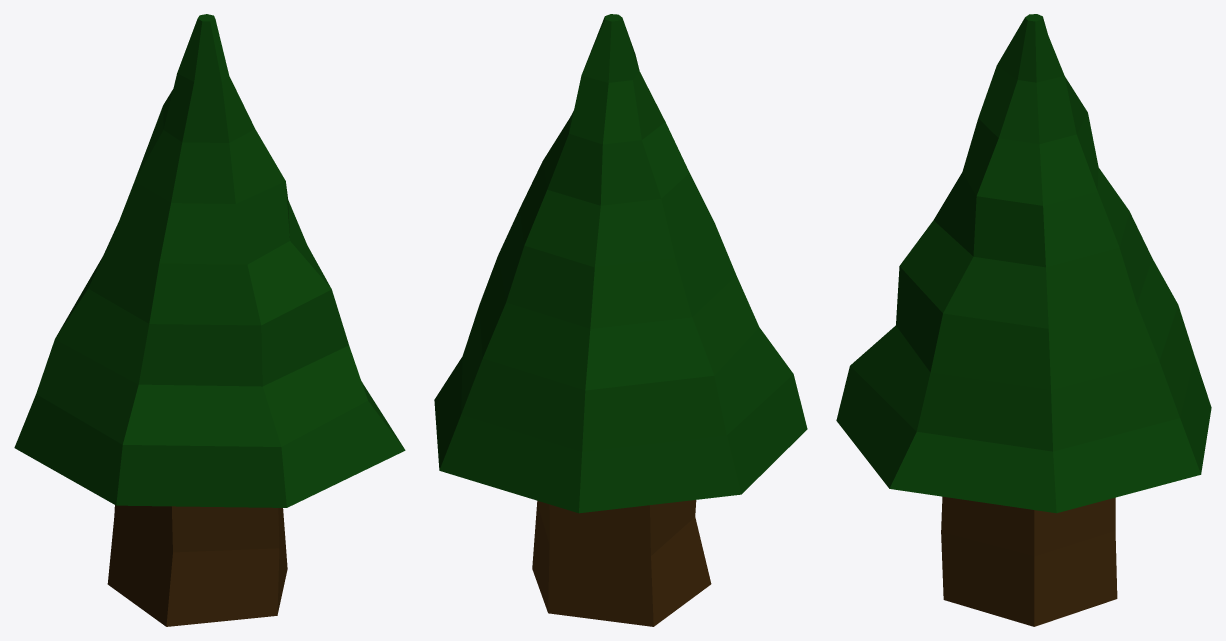
The model's file is fir.fbx.
3 views of the same model, side by side, from view 1: azimuth 30°, elevation 25°; view 2: azimuth 150°, elevation 25°; view 3: azimuth 270°, elevation 25° (orthographic).
Parts seen in each view (by area): view 1: Cone, Cylinder; view 2: Cone, Cylinder; view 3: Cone, Cylinder.
Part boxes in pixels (box(x1,y1,x2,y2)): Cone: box(14, 14, 405, 507); Cylinder: box(107, 505, 287, 626); Cone: box(434, 14, 807, 513); Cylinder: box(532, 500, 711, 626); Cone: box(836, 14, 1211, 513); Cylinder: box(941, 496, 1117, 626).
Size of the model in its own units: 168 by 279 by 166.
